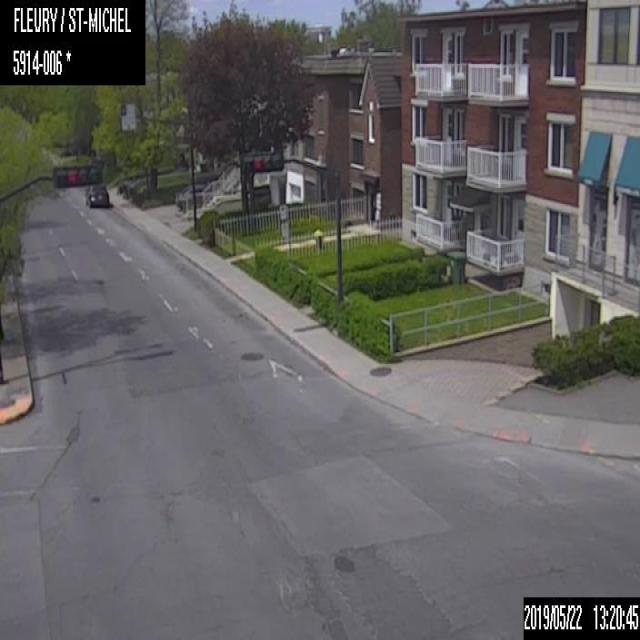vehicle: (85, 181, 108, 207)
